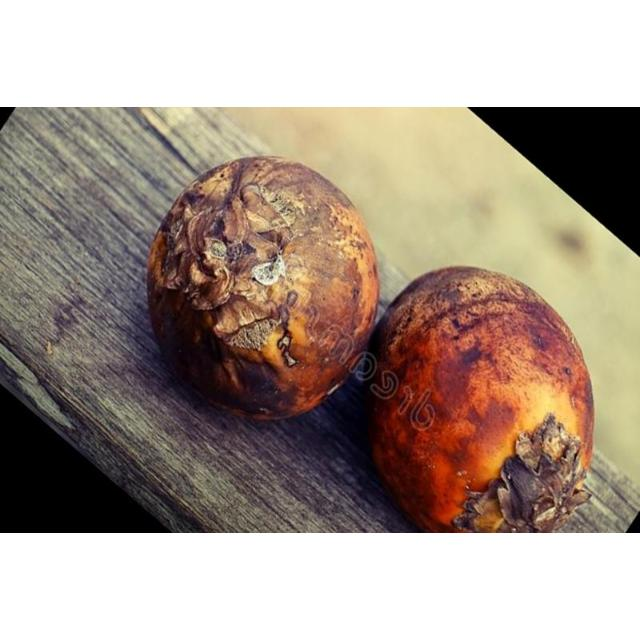damaged: (145, 157, 382, 422), (365, 266, 595, 533)
